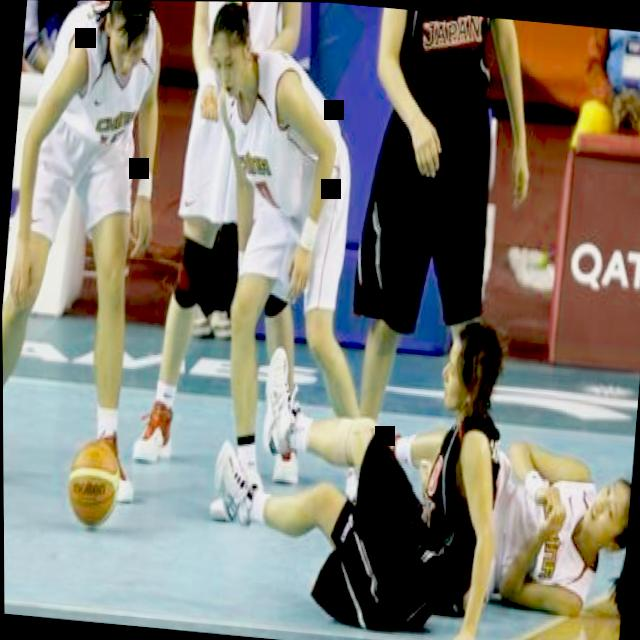Fall-Detected: (187, 277, 535, 640)
